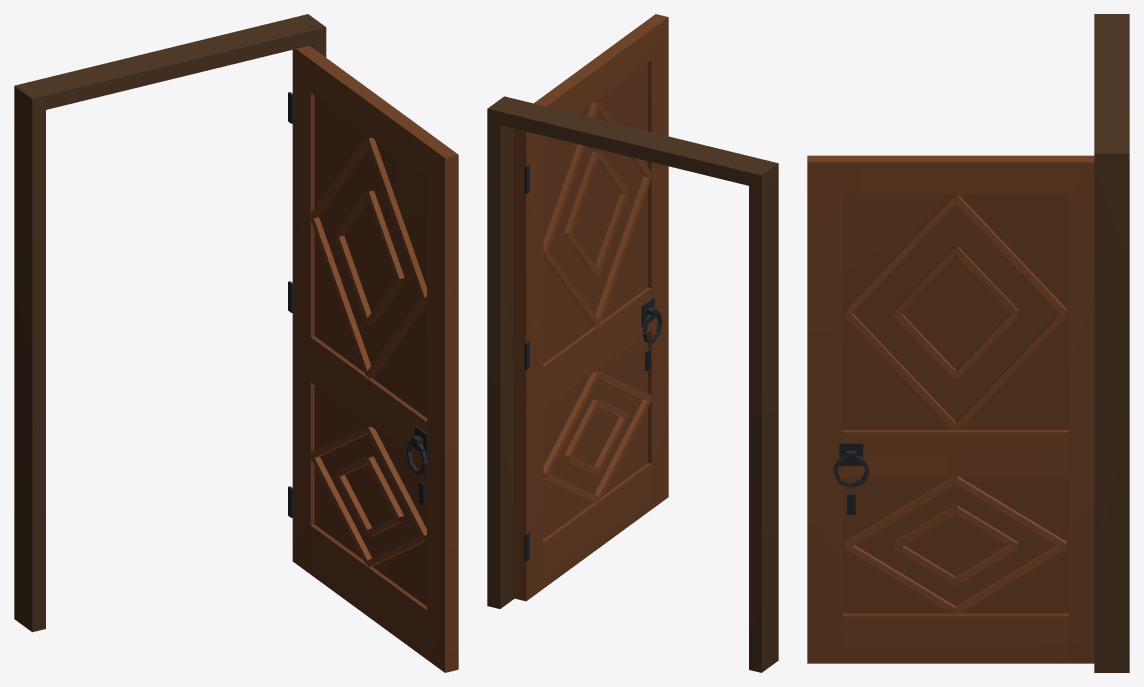
The model's file is door.oak_slim_open_left.diamond.glb.
3 views of the same model, side by side, from view 1: azimuth 30°, elevation 25°; view 2: azimuth 150°, elevation 25°; view 3: azimuth 270°, elevation 25° (orthographic). The views are drawn at different scales.
Parts seen in each view (by area): view 1: door_oak_slim_open_left_diamond; view 2: door_oak_slim_open_left_diamond; view 3: door_oak_slim_open_left_diamond.
Part boxes in pixels (box(x1,y1,x2,y2)): door_oak_slim_open_left_diamond: box(14, 14, 458, 672); door_oak_slim_open_left_diamond: box(487, 14, 778, 672); door_oak_slim_open_left_diamond: box(807, 14, 1129, 672).
Size of what is drawn, in the model's own units: 1.5 by 2.6 by 1.46.
